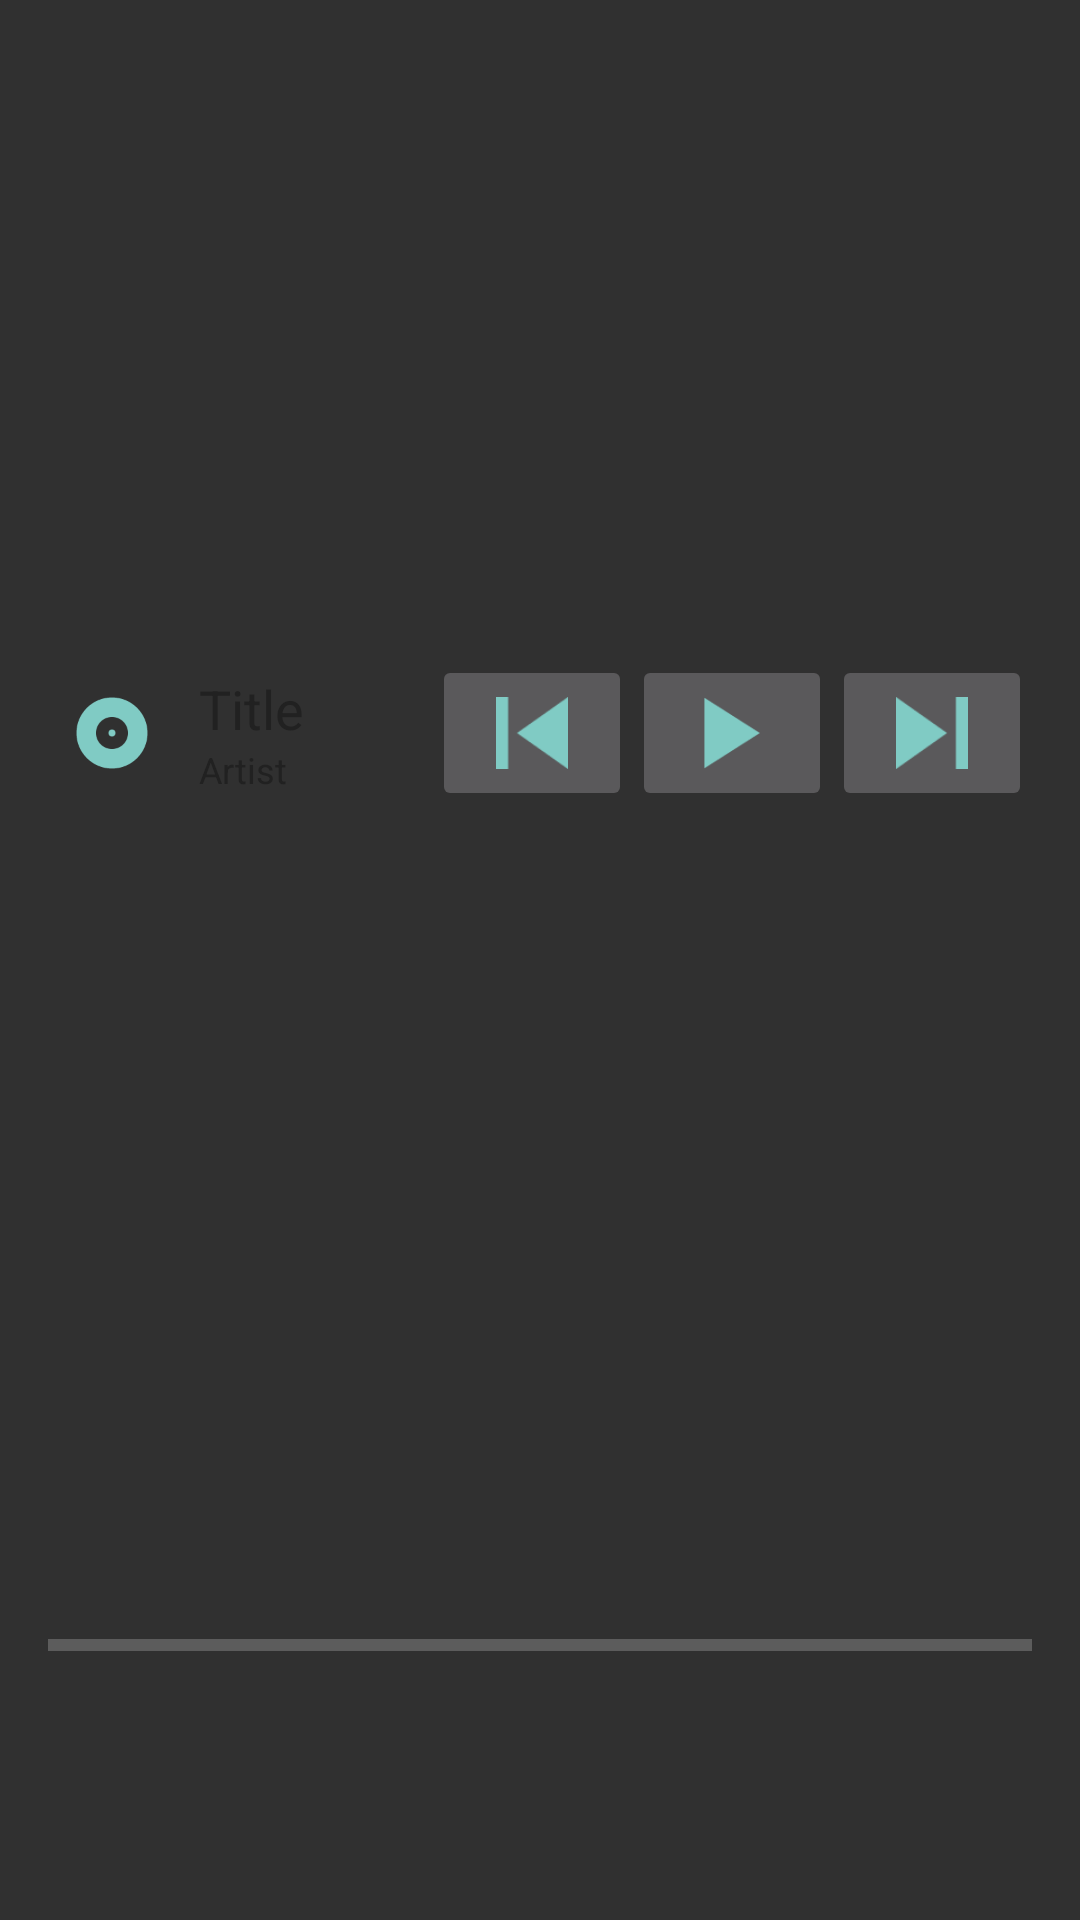

Icons on this 1080 × 1920 Android screen, each with the point to tap as (x,y):
av album: (112,733)
av play arrow: (732,733)
av skip next: (932,733)
av skip previous: (532,733)
